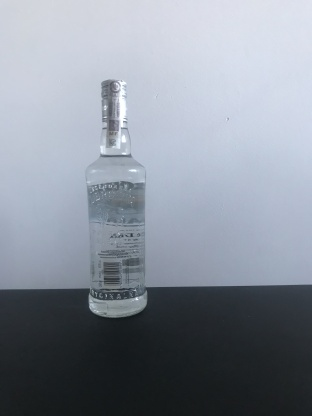nakretka: (98, 75, 129, 125)
